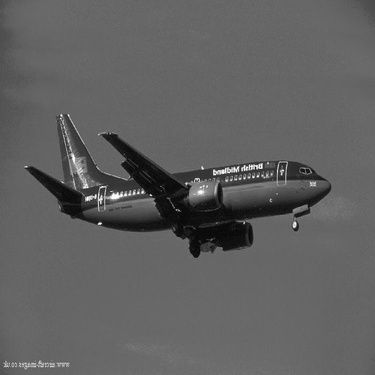airplane: (11, 96, 343, 279)
